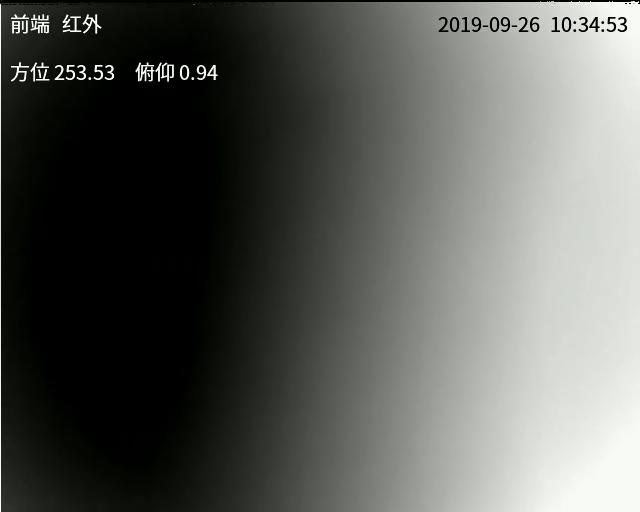uav: (157, 113, 175, 121)
